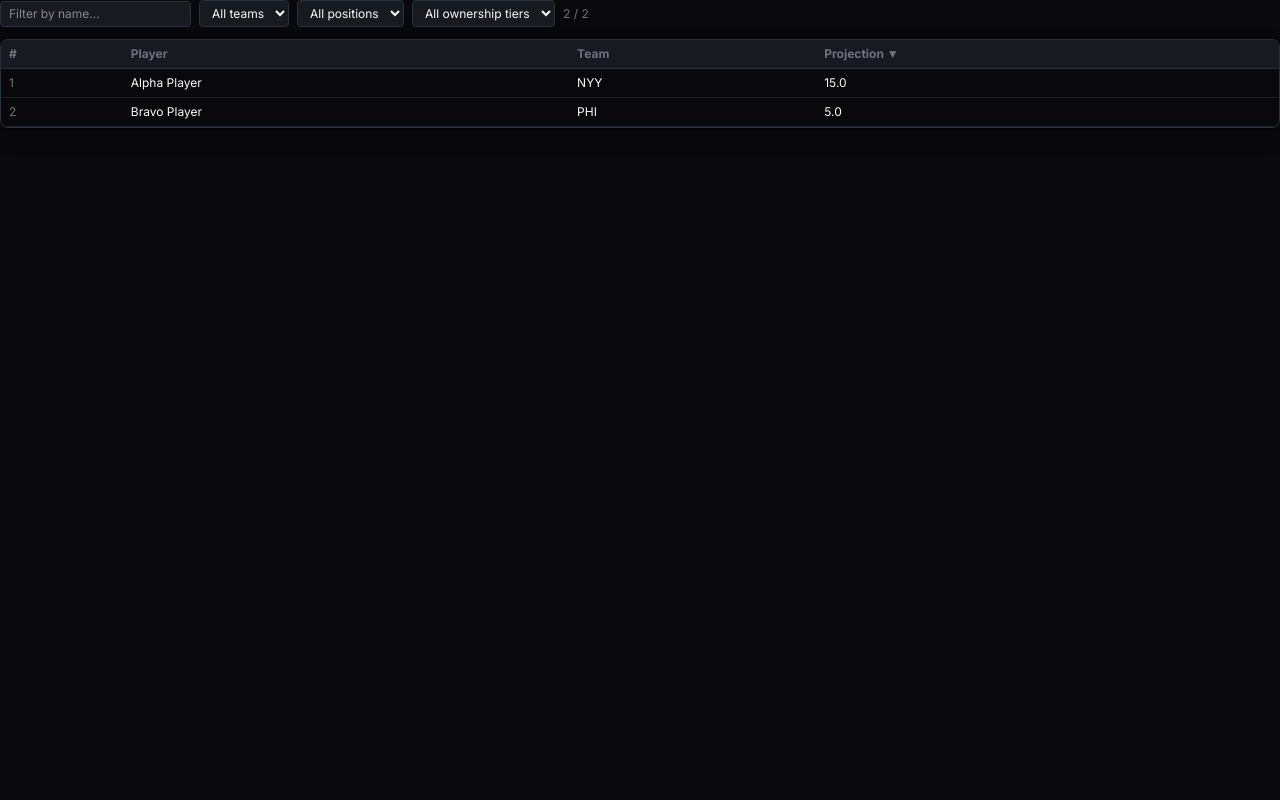
Test: PlayerTable › opens the player detail panel when a row is clicked
This screenshot has width=1280, height=800.
Click the text "Alpha Player": (166, 82) [123,68,569,98]
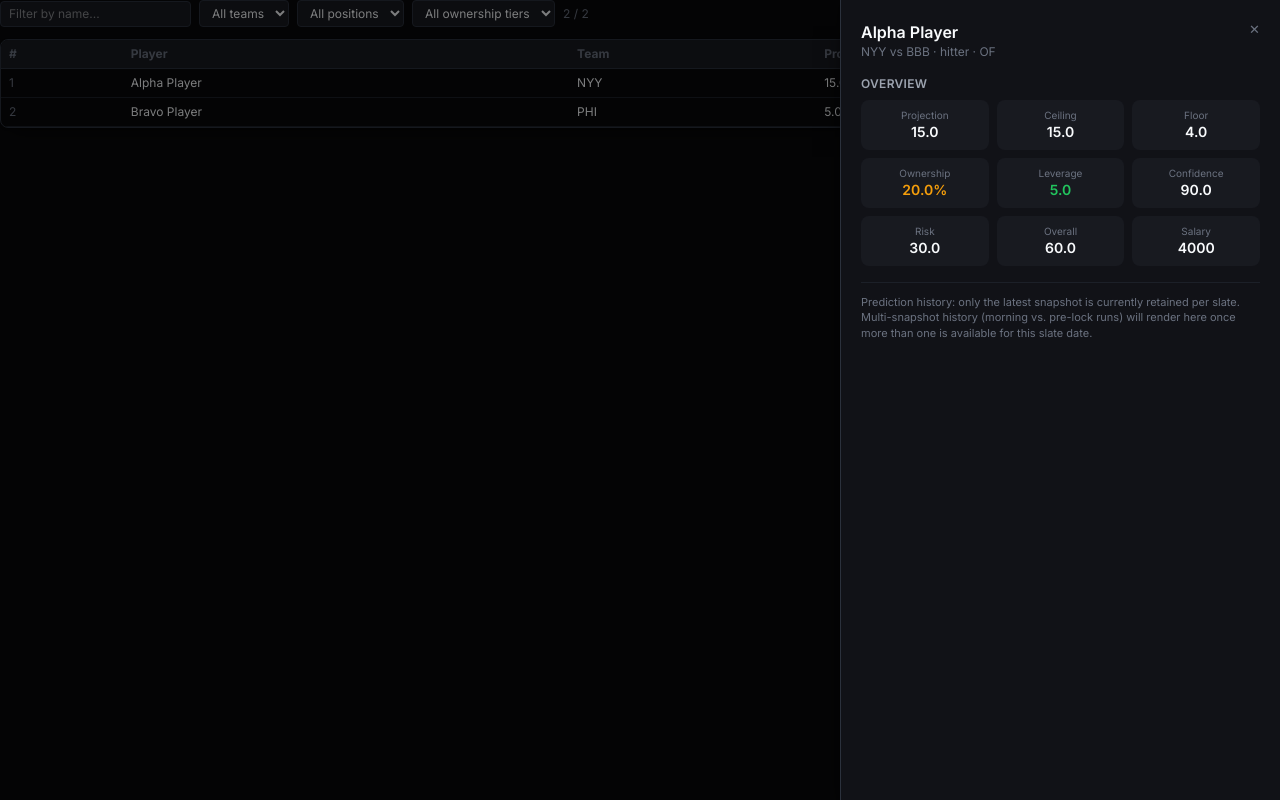
Result: the text "Ownership" is shown at [899,167,950,179]
